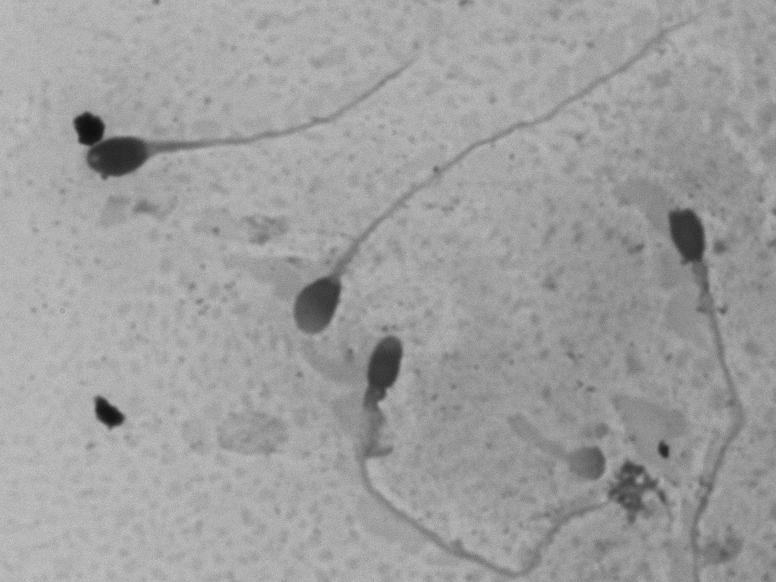Abnormal: (62, 28, 433, 207), (307, 331, 509, 552), (656, 194, 753, 528), (266, 208, 378, 351)
